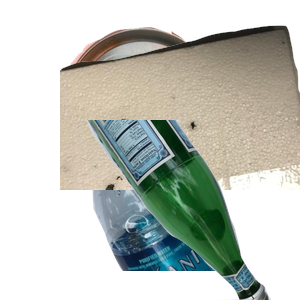glass: (75, 120, 300, 300)
metal: (59, 10, 273, 189)
plastic: (71, 120, 300, 300)
trash: (60, 23, 300, 203)
